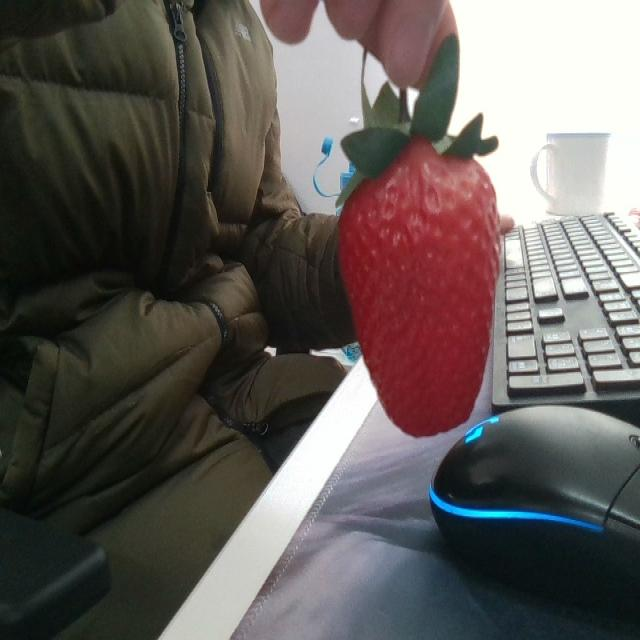mature: (340, 121, 500, 438)
